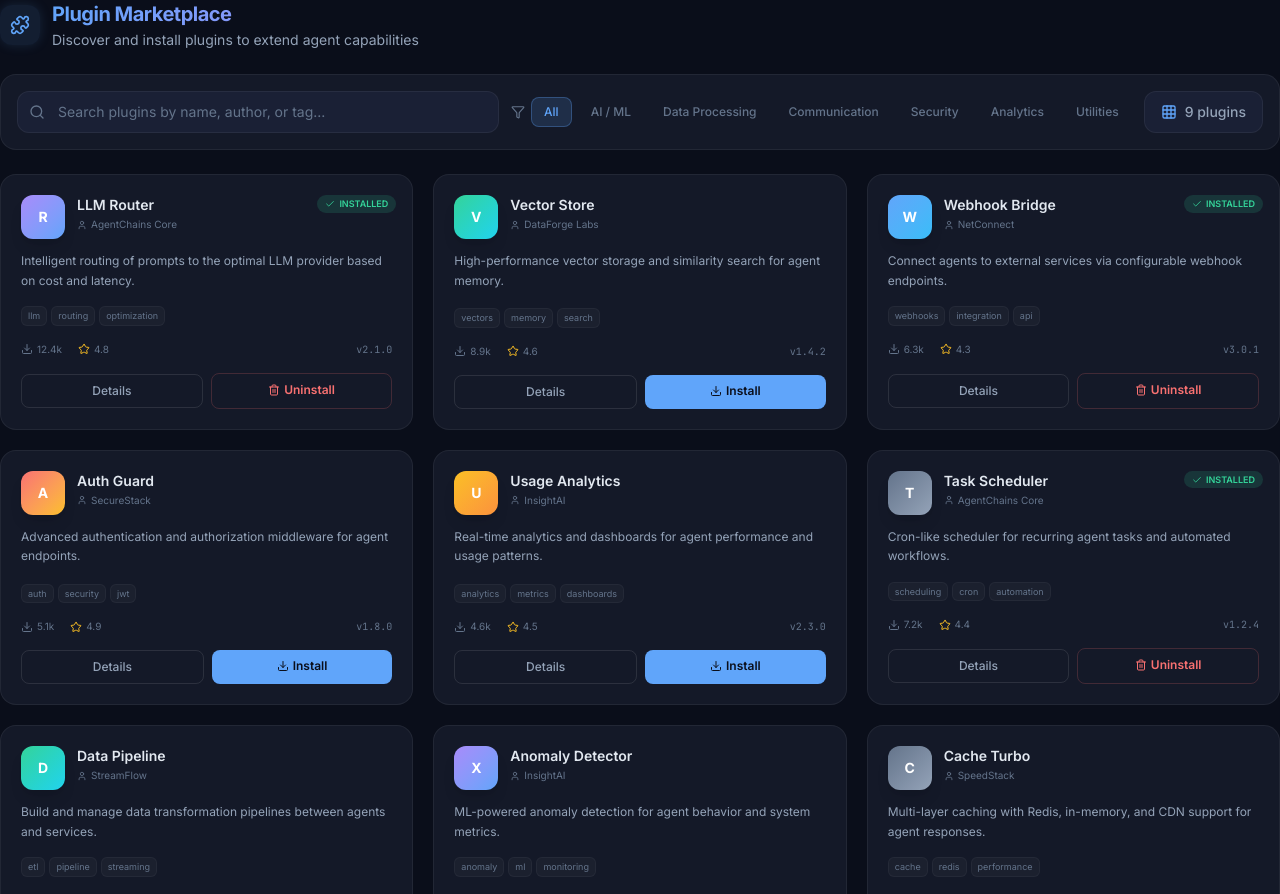
it: PluginMarketplacePage › search filtering › filters plugins by author
Type "InsightAI" into the field with placeholder "Search plugins by name, author, or tag...".
click(258, 112); type("InsightAI")  # box x1=17 y1=91 x2=499 y2=133
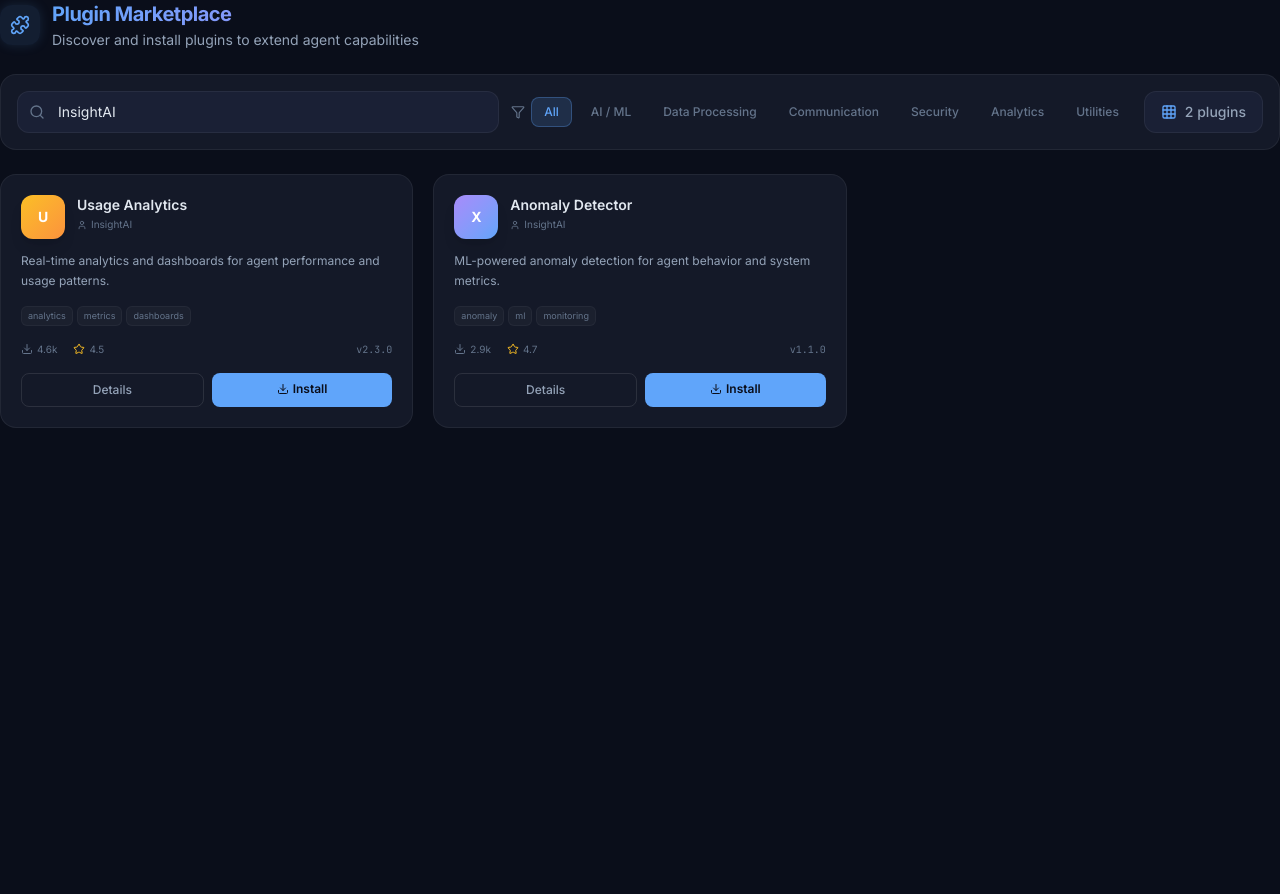
Expected: the heading "Usage Analytics" is shown, x1=77 y1=196 x2=187 y2=213
Expected: the heading "LLM Router" is gone
Expected: the text "2 plugins" is shown, x1=1144 y1=91 x2=1263 y2=133
